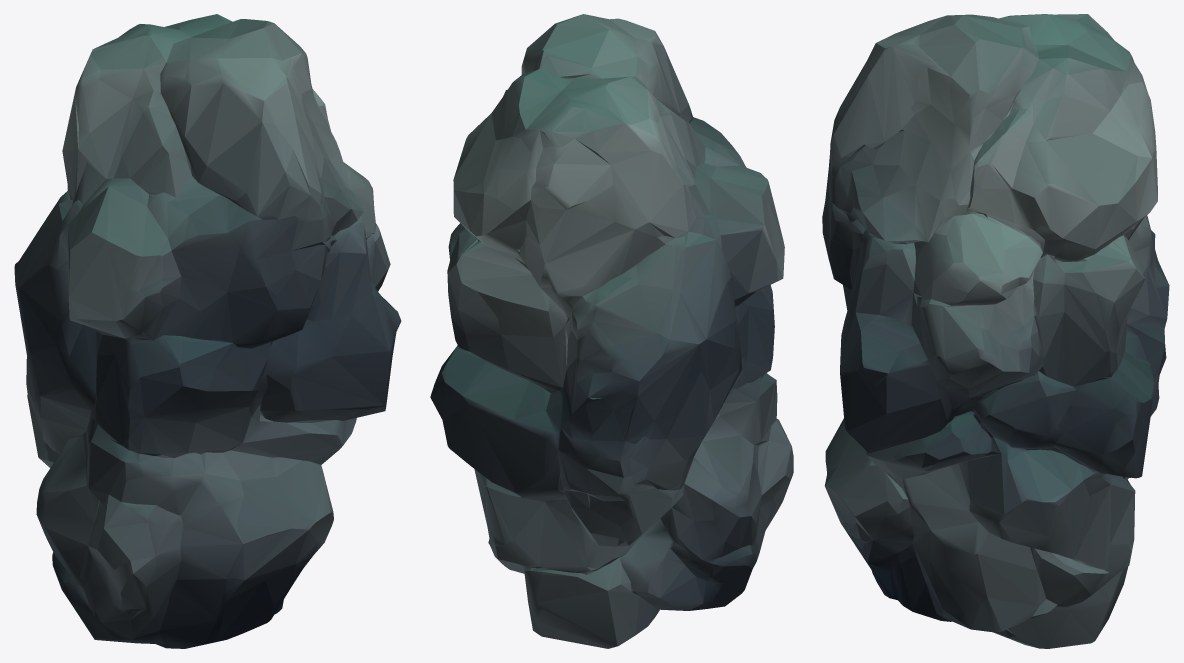
3 renders of one model, left to right at view 1: azimuth 30°, elevation 25°; view 2: azimuth 150°, elevation 25°; view 3: azimuth 270°, elevation 25°, orthographic. The views are drawn at different scales.
Parts seen in each view (by area): view 1: output_unwrapped; view 2: output_unwrapped; view 3: output_unwrapped.
Part boxes in pixels (<box>): output_unwrapped: <box>14,14,401,648</box>; output_unwrapped: <box>430,14,793,648</box>; output_unwrapped: <box>822,14,1169,648</box>.
Bounding box in the file's own units: 1.08 × 1.89 × 0.9442.
